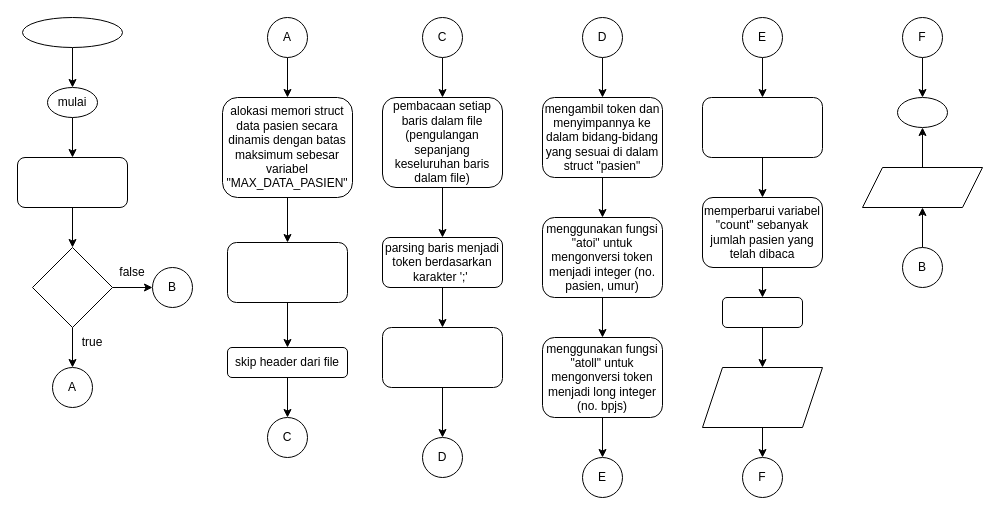
Image size: 1000x515. Some labels were removed from this diagram. The centre of each missing label's shape, as x and y in pixels:
deklarasi variabel "Data_Pasien pasien" untuk menyimpan data pasien: point (442, 357)
file kosong: point (72, 287)
inisialisasi variabel pointer "count" dengan nilai nol: point (287, 272)
membuka file csv data pasien dalam mode baca: point (72, 182)
menampilkan pesan error: point (922, 187)
mengembalikan array of structs "dataPasien": point (762, 397)
menutup file: point (762, 312)
menyimpan data pasien ke dalam array of structs "dataPasien": point (762, 127)
readDataPasien: point (72, 32)
selesai: point (922, 112)
